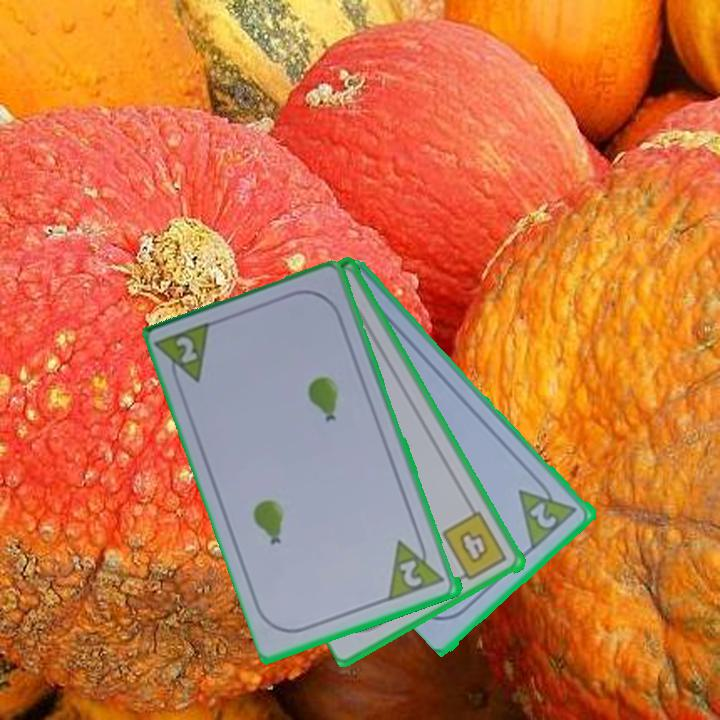2p: (515, 472, 582, 551), (385, 531, 449, 604), (172, 332, 202, 367)
4b: (439, 508, 511, 585)
